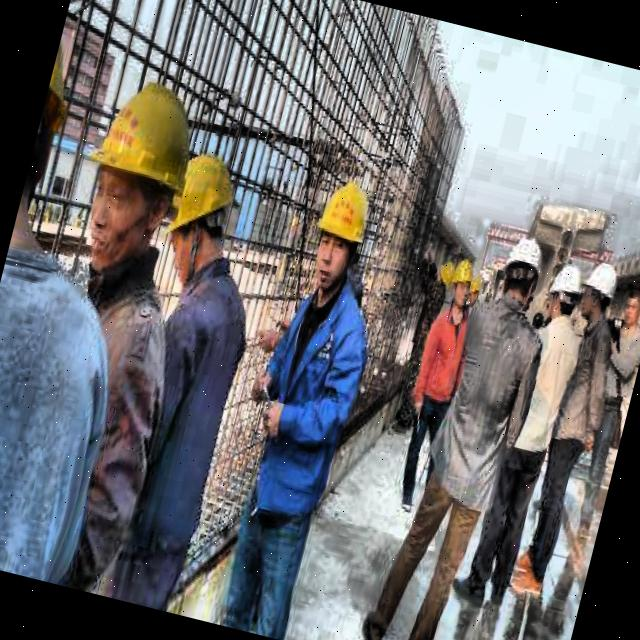helmet: (65, 70, 214, 283), (146, 134, 252, 291), (296, 159, 384, 305), (492, 234, 550, 311), (575, 256, 621, 326), (541, 258, 587, 325), (444, 248, 482, 318), (432, 256, 456, 298)
